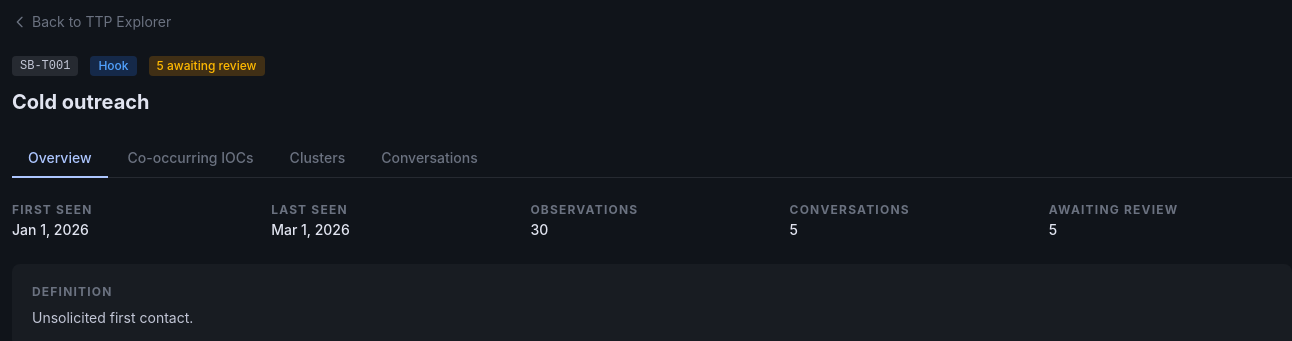
Test: TtpDetail — coverage gaps › clusters tab degrades to the empty state on a 404 (null resolve)
Check: the heading "Cold outreach" is shown, box top-left (12, 90), bottom-right (150, 114)
Click the button with test id "ttp-detail-tab-clusters" at (317, 159), box top-left (274, 140), bottom-right (361, 178)
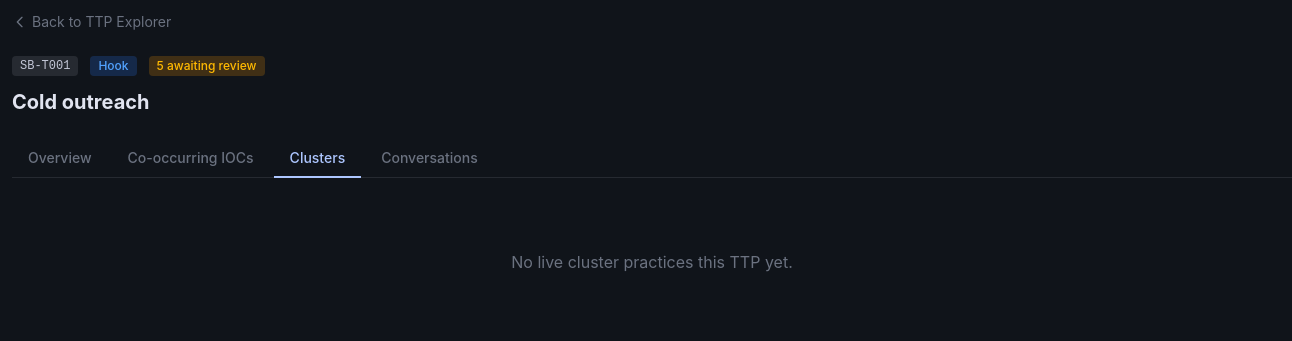
Check: the text "No live cluster practices this TTP yet." is shown, box top-left (511, 252), bottom-right (793, 272)
